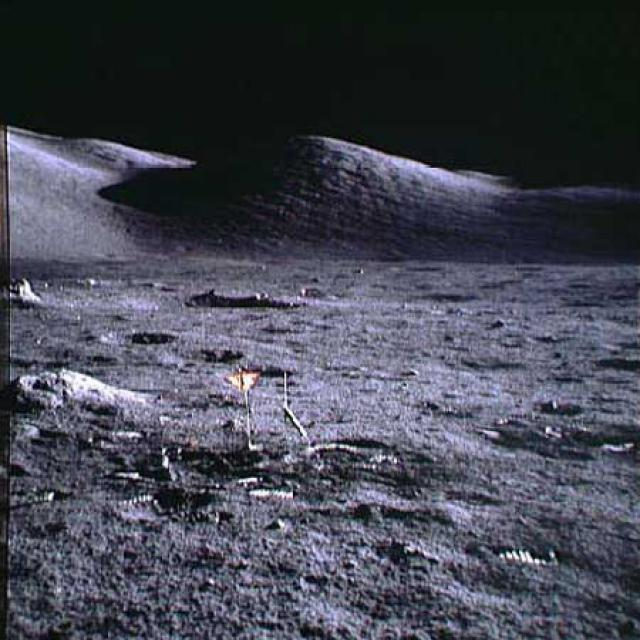artifact: (225, 361, 272, 451), (280, 366, 315, 454)
crater: (96, 324, 176, 349), (179, 344, 246, 366)
rock: (12, 362, 147, 420), (10, 272, 41, 310)
